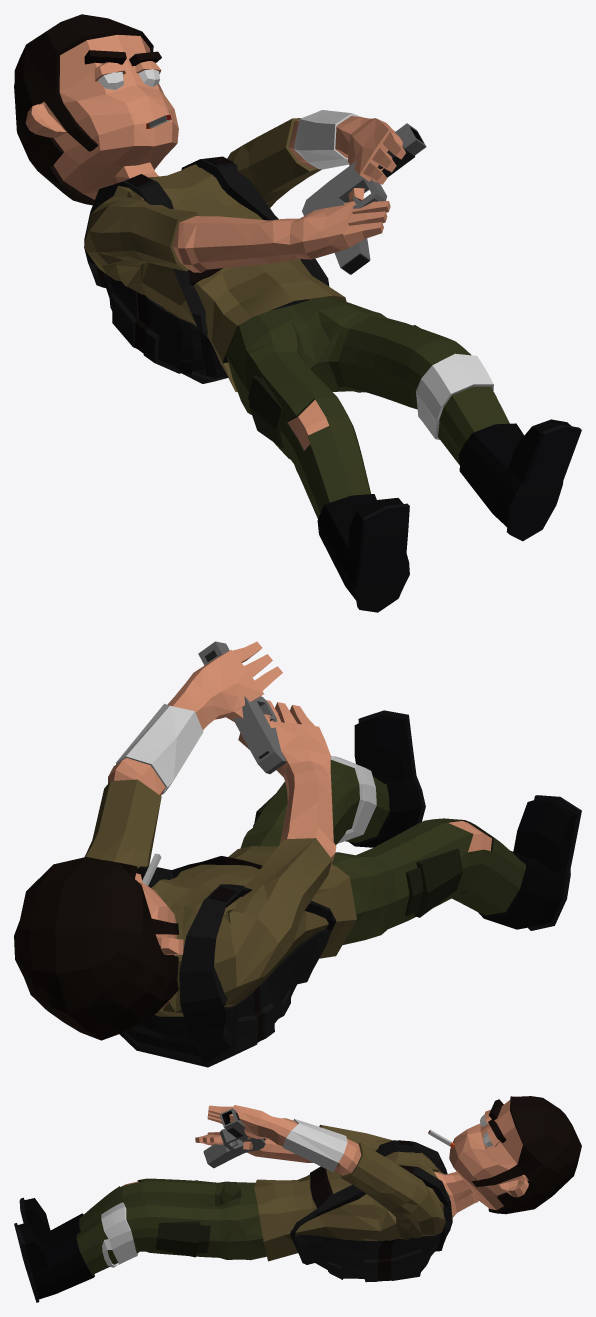
The model's file is frame_0128.obj.
3 views of the same model, one above another, from view 1: azimuth 30°, elevation 25°; view 2: azimuth 150°, elevation 25°; view 3: azimuth 270°, elevation 25° (orthographic). The views are drawn at different scales.
Parts seen in each view (by area): view 1: Body, Gun; view 2: Body, Gun; view 3: Body, Gun.
Part boxes in pixels (x1=…): Body: x1=14, y1=14, x2=581, y2=612; Gun: x1=302, y1=123, x2=426, y2=274; Body: x1=14, y1=641, x2=581, y2=1067; Gun: x1=198, y1=641, x2=286, y2=773; Body: x1=14, y1=1096, x2=581, y2=1302; Gun: x1=203, y1=1108, x2=265, y2=1168.
Bounding box in the file's own units: 1.23 × 1.85 × 4.14.
